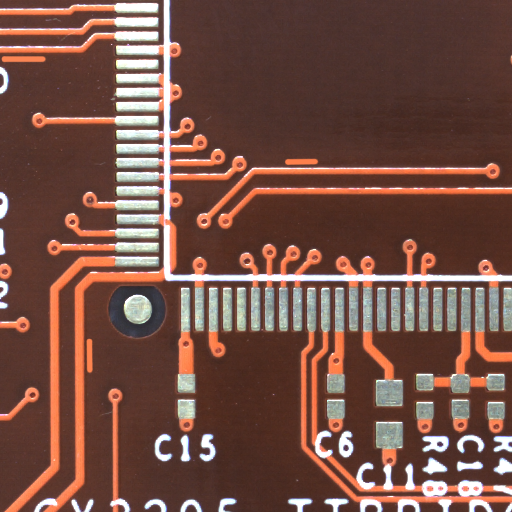Spurious_copper: (24, 58, 72, 67), (301, 161, 334, 172), (89, 354, 97, 393)
